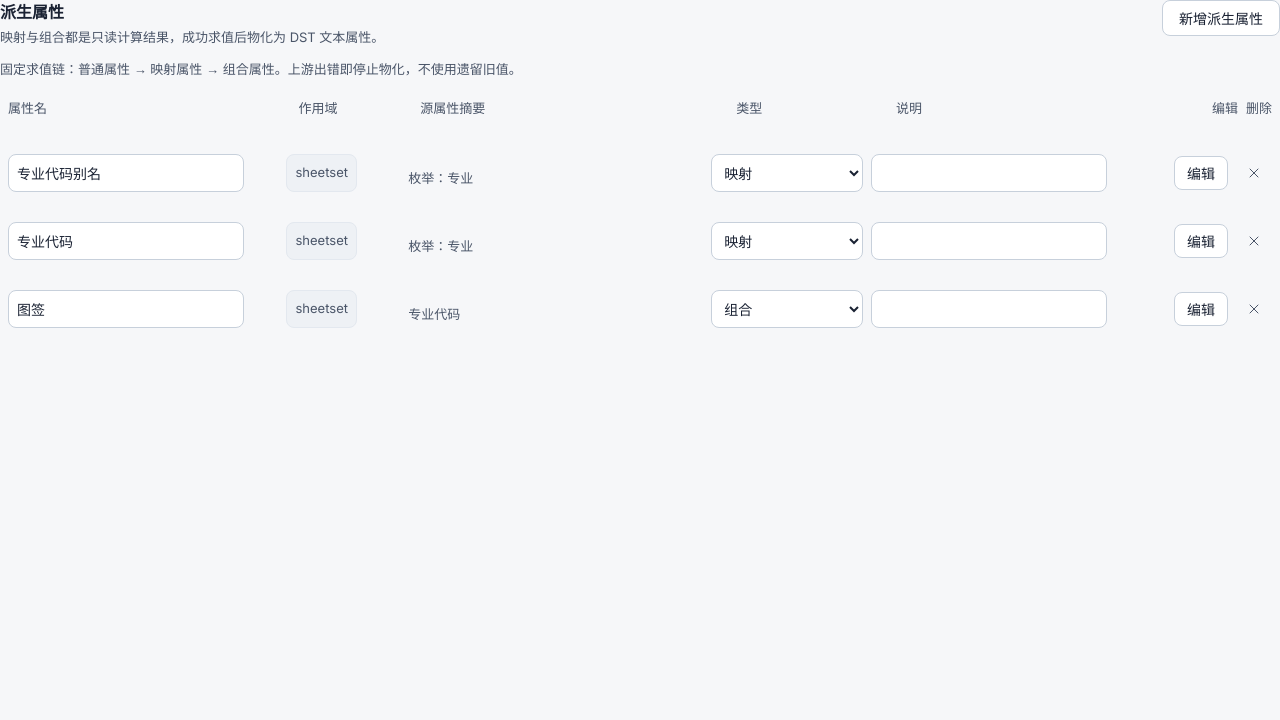
it: DerivedPropertyEditor › shows read only source values without exposing internal ids
What coordinates should you click on to do the following:
click the button with test id "edit-derived-prop-code"
I would click on:
 (1201, 241)
Its box is [1174,224,1228,258].
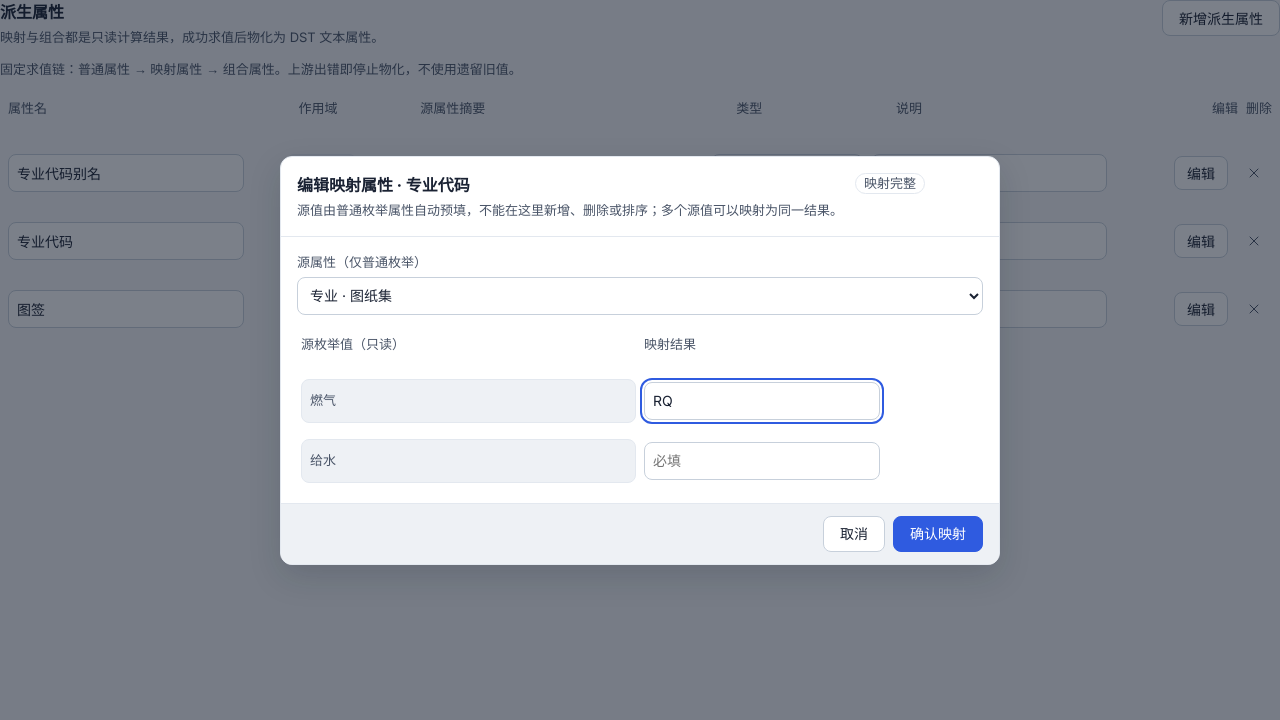
Result: the cell with test id "mapping-source-value-enum-a" reads "燃气" at [310,392,336,408]
